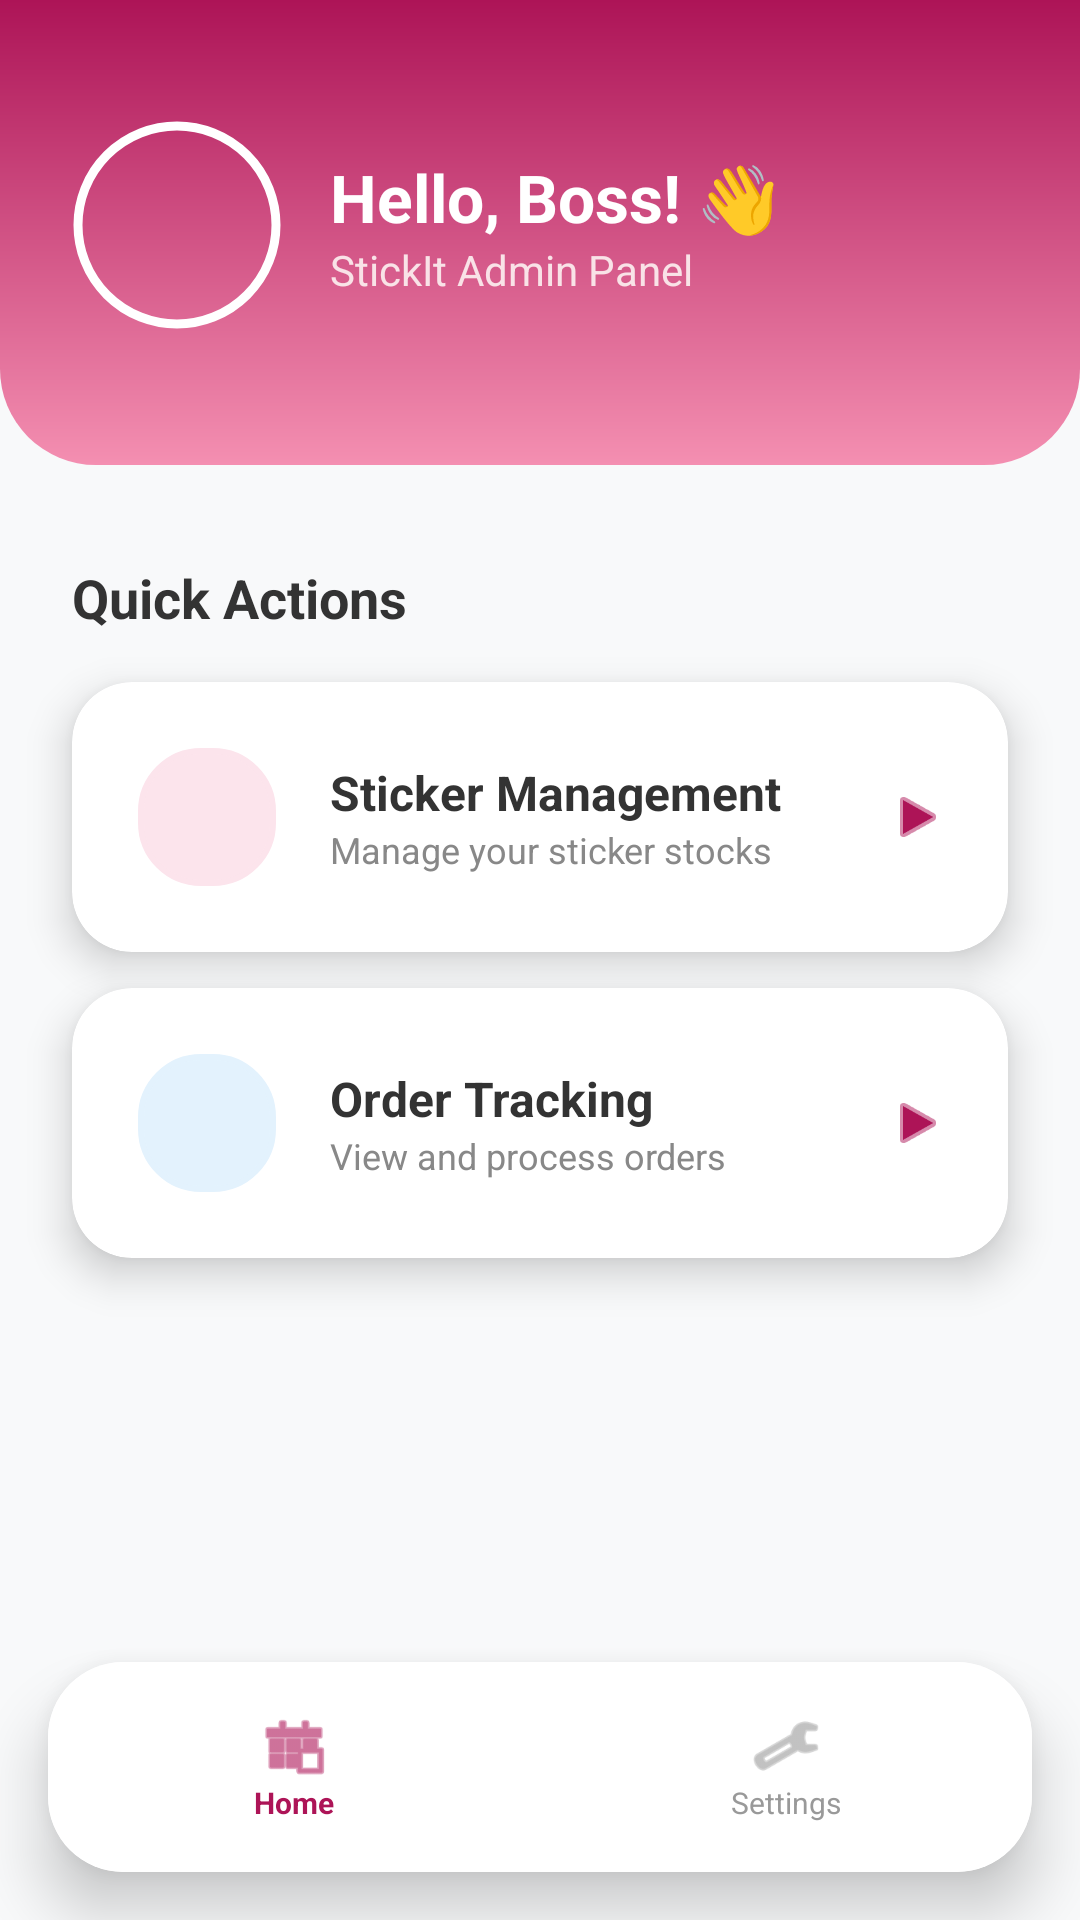

Icon bounding boxes for this 1080x1920 phone screenshot, format (x1, y1, x2, y2):
play: (900, 797, 936, 837), (900, 1103, 936, 1143)
today: (265, 1720, 324, 1775)
